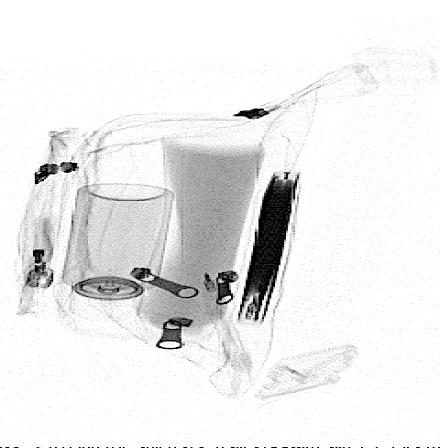Lighter: (27, 214, 62, 288)
Powerbank: (235, 172, 301, 324)
Sprayer: (62, 183, 175, 319)
